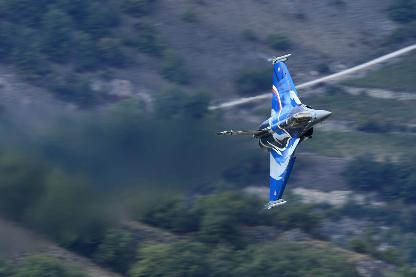RQ4: (214, 53, 332, 208)
